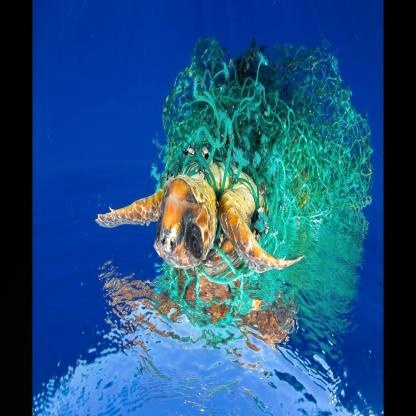net: (158, 43, 366, 308)
